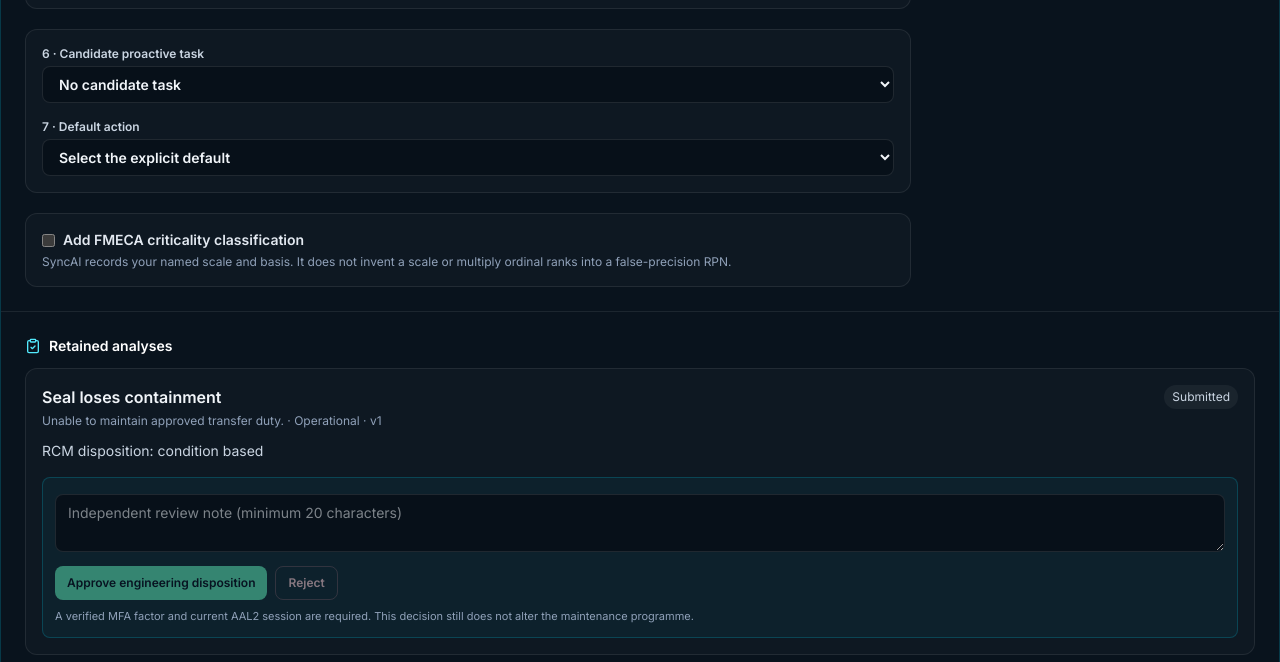
it: GovernedRcmWorkbench › exposes assigned review without claiming a maintenance change
The width and height of the screenshot is (1280, 662).
(page scrolled)
Type "Independent review confirms consequence and task-selection logic." into the text box with placeholder "Independent review note (minimum 20 characters)".
click(640, 523); type("Independent review confirms consequence and task-selection logic.")  # box left=55, top=494, right=1225, bottom=552
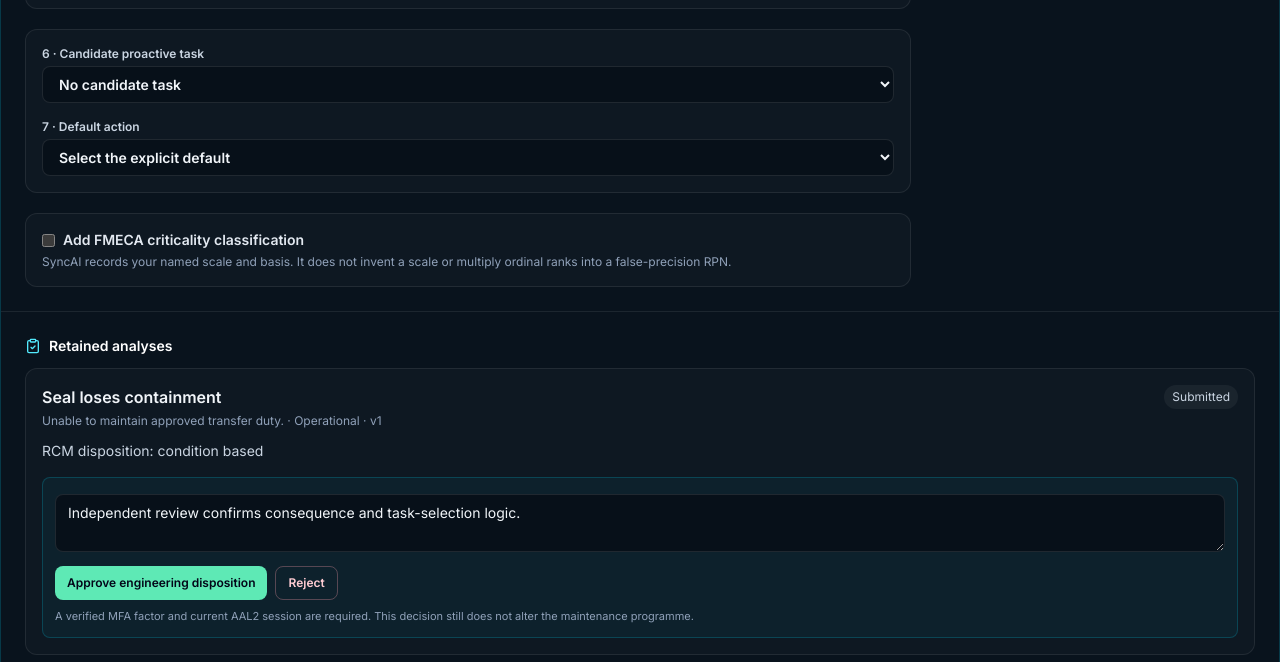
Click the button "Approve engineering disposition".
click(161, 583)  # box left=55, top=566, right=268, bottom=600
(page scrolled)
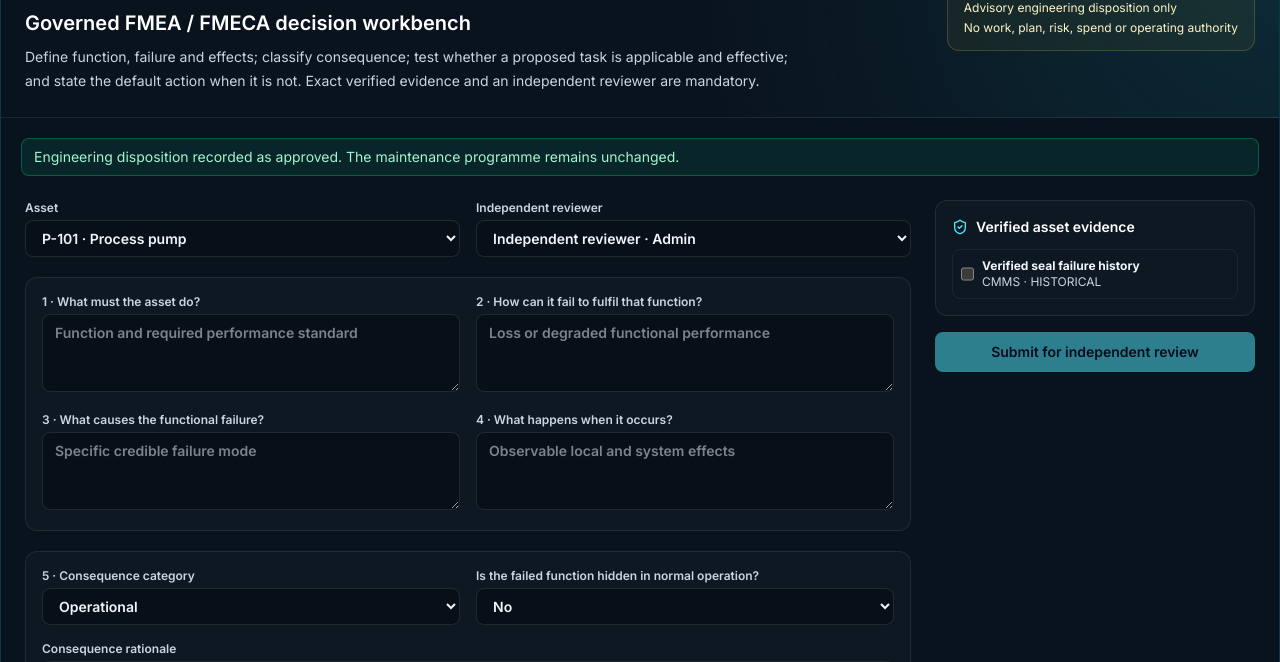
Expected: the text "maintenance programme remains unchanged" is shown, left=34, top=148, right=679, bottom=165
